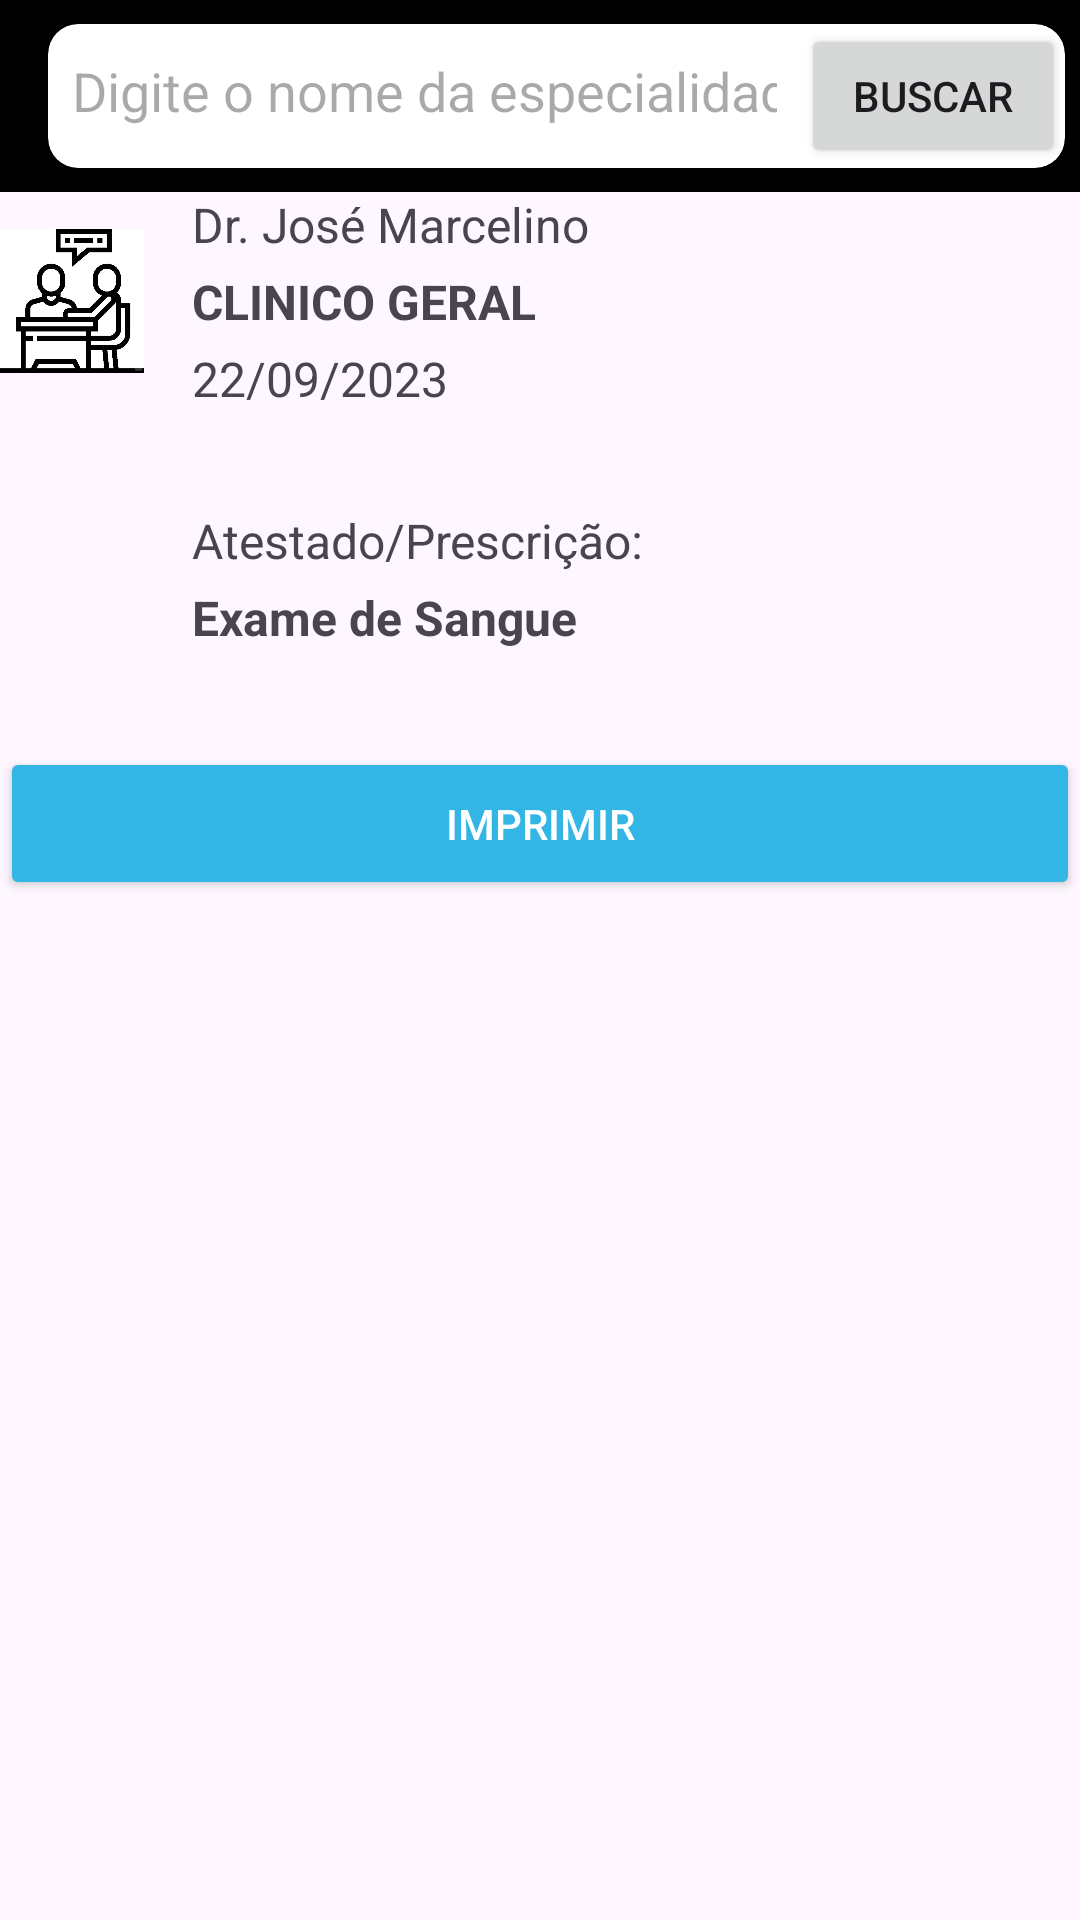

Where to tap for icons on this 1080w x 1920h app screen, as (x,y):
consulta: (72,301)
